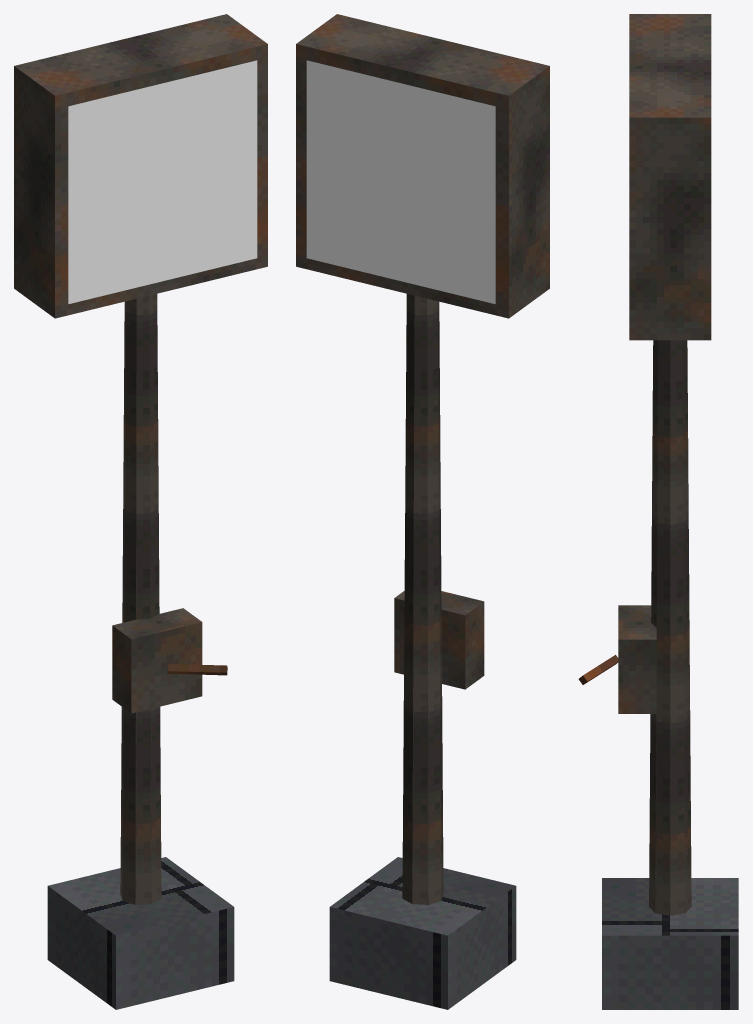
The model's file is reloj_poste.obj.
3 views of the same model, side by side, from view 1: azimuth 30°, elevation 25°; view 2: azimuth 150°, elevation 25°; view 3: azimuth 270°, elevation 25° (orthographic).
Parts seen in each view (by area): view 1: reloj_poste; view 2: reloj_poste; view 3: reloj_poste.
Part boxes in pixels (x1,y1,x2,y2): reloj_poste: (14,14,267,1009); reloj_poste: (296,14,549,1009); reloj_poste: (578,14,738,1009).
Size of the model in its own units: 0.9 by 3.7 by 0.5866.
Materials: 4 (3 with a texture image).
